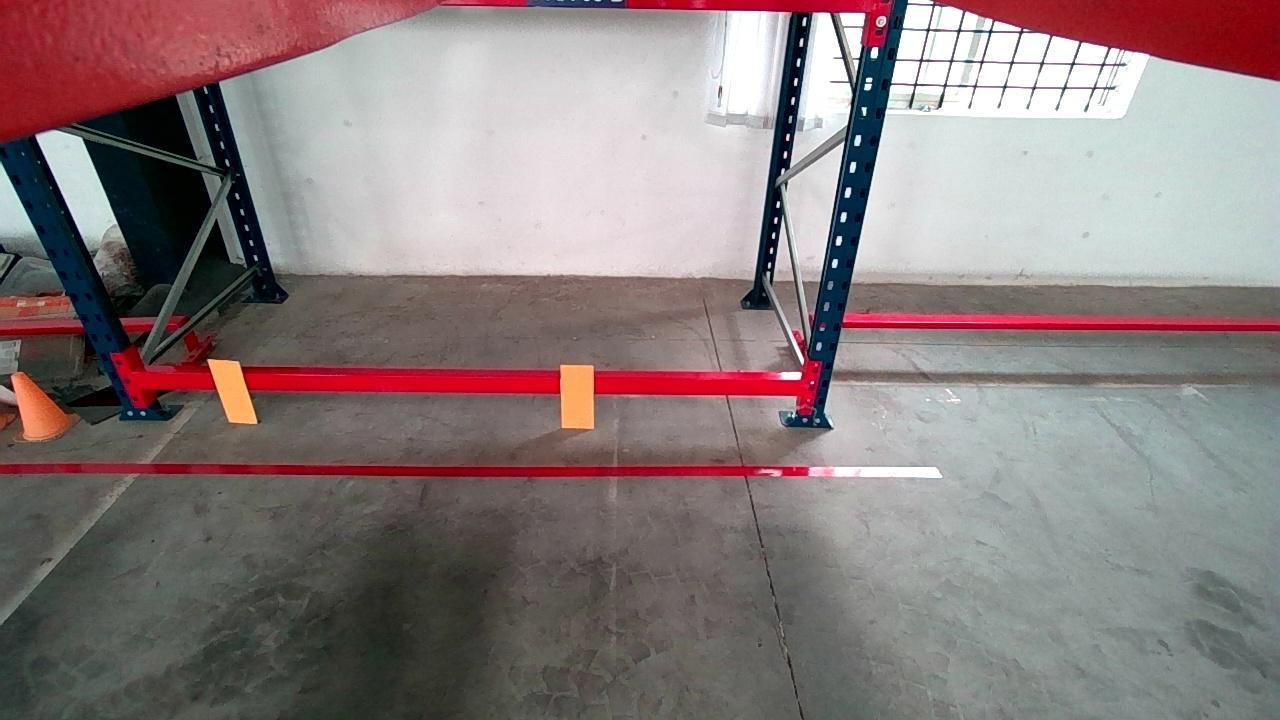h_rack: (130, 371, 808, 398)
orange_strip: (207, 359, 257, 422), (558, 363, 595, 428)
red_line: (0, 462, 939, 478)
